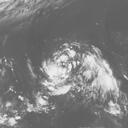cyclone: (39, 44, 117, 105)
